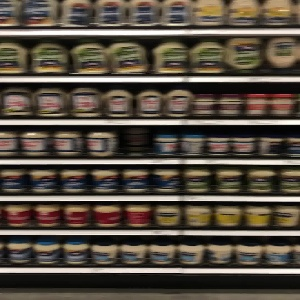void: (115, 127, 148, 156)
